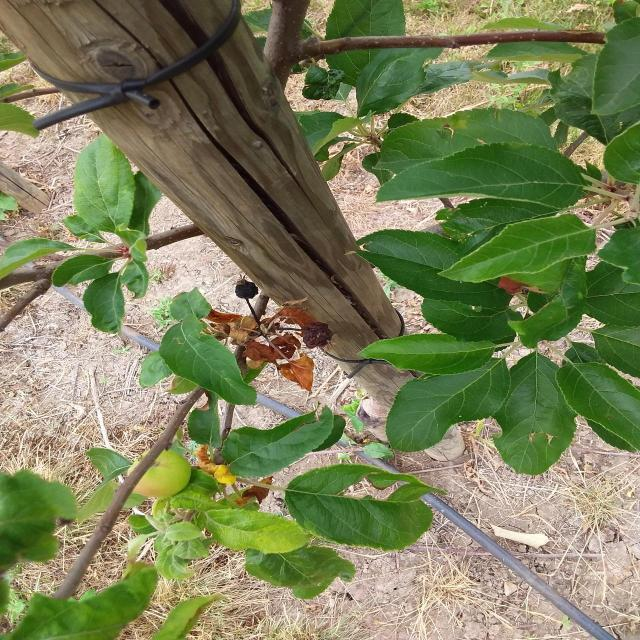-FireBlight-: (208, 308, 336, 393)
